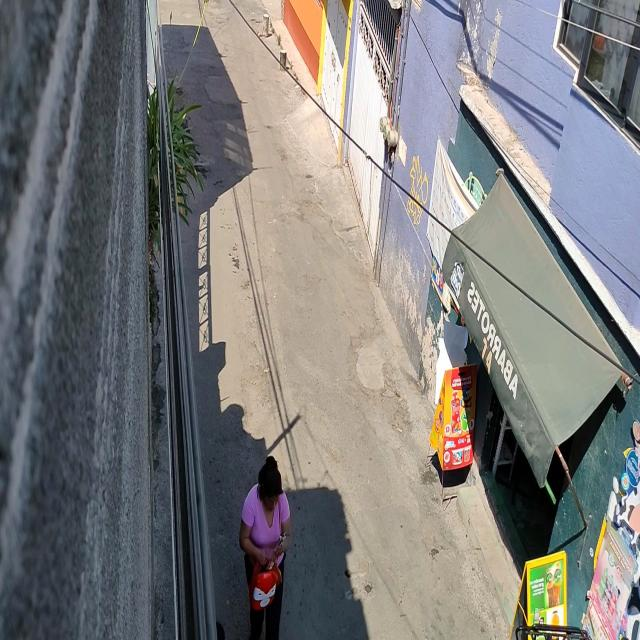adult: (239, 452, 293, 640)
